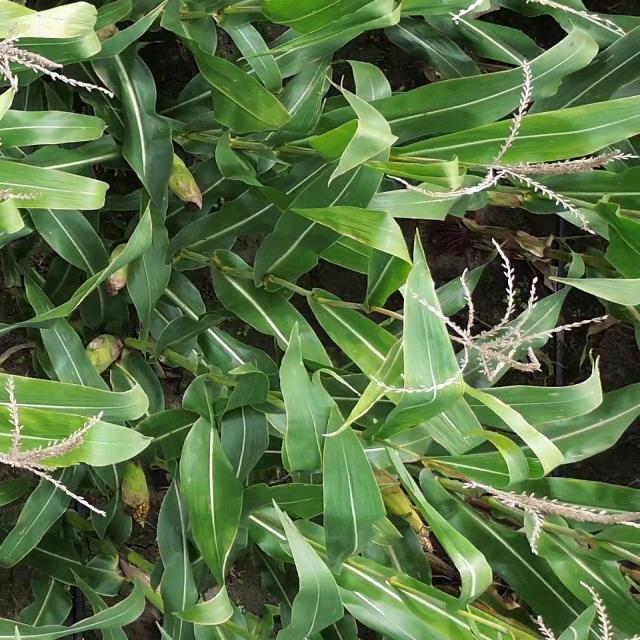gray-leaf-spot: (216, 7, 364, 124), (349, 505, 449, 586)
southern-leaf-blight: (510, 366, 617, 448)
